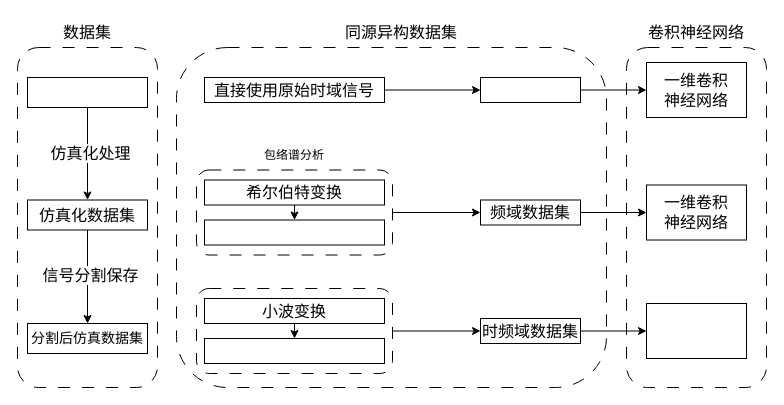
Some shapes in this 784 by 405 pixel diagram are drawn without their labels. The shapes that lost their labels are listed below. From the top down, each one's centre as x and y in pixels, then its label:
the point at 87,92: 原始数据集
the point at 530,89: 时域数据集
the point at 294,232: 傅里叶变换
the point at 696,330: 二维卷积 神经网络
the point at 294,351: 系数矩阵图像
